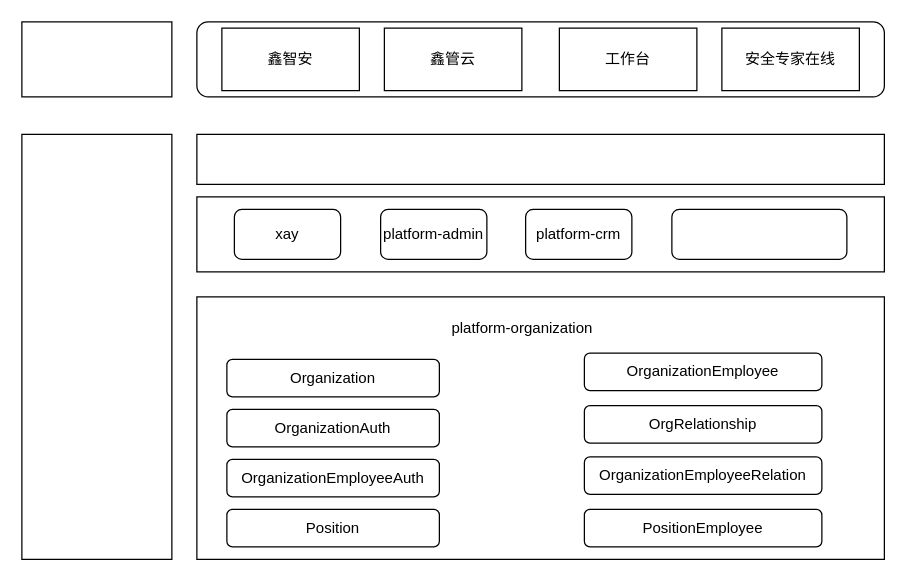
The diagram is 906 pixels wide and 581 high, and some of its shapes have lost their labels. Each missing label, with the box of its shape:
platform-insurance-hub: (671, 208, 847, 259)
前端: (21, 21, 172, 97)
平台网关: (196, 133, 884, 184)
注册中心: (21, 133, 172, 559)
